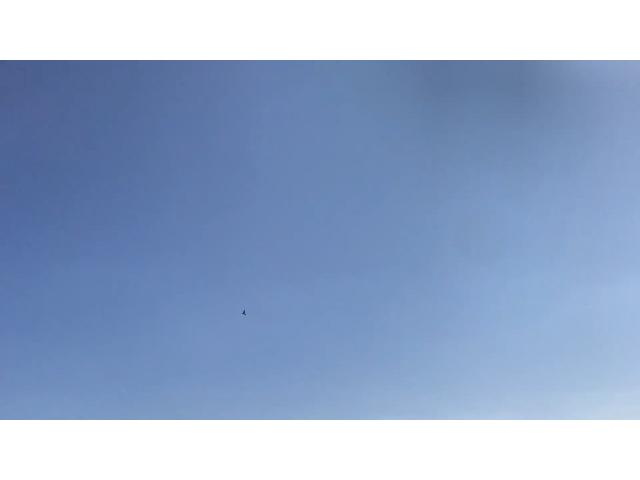Anti-Drone: (234, 305, 256, 323)
